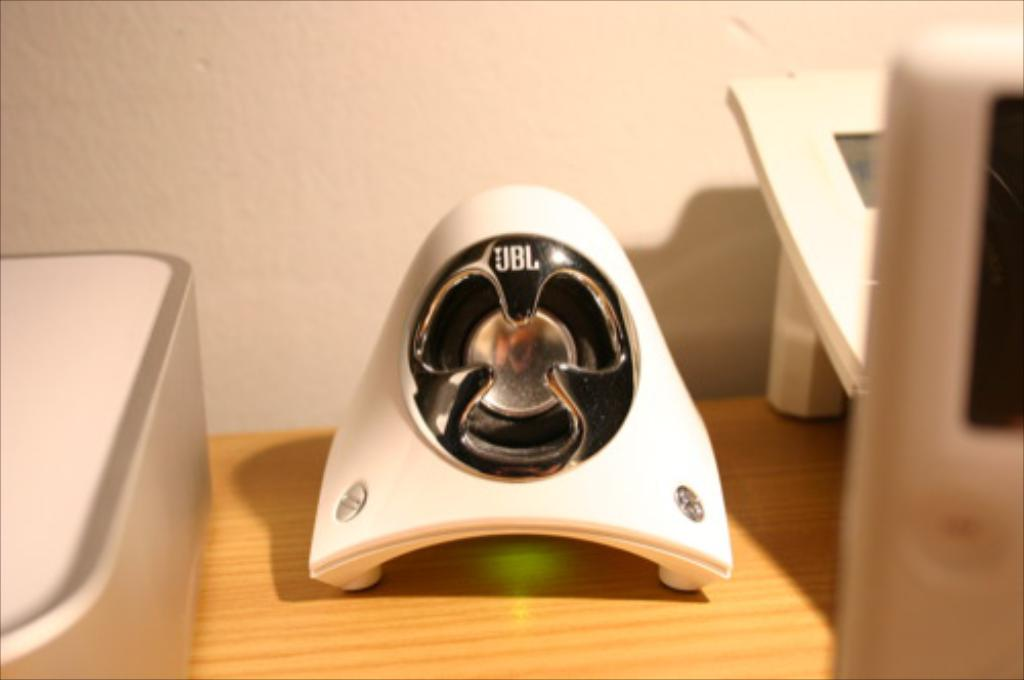Table: (184, 391, 848, 678)
